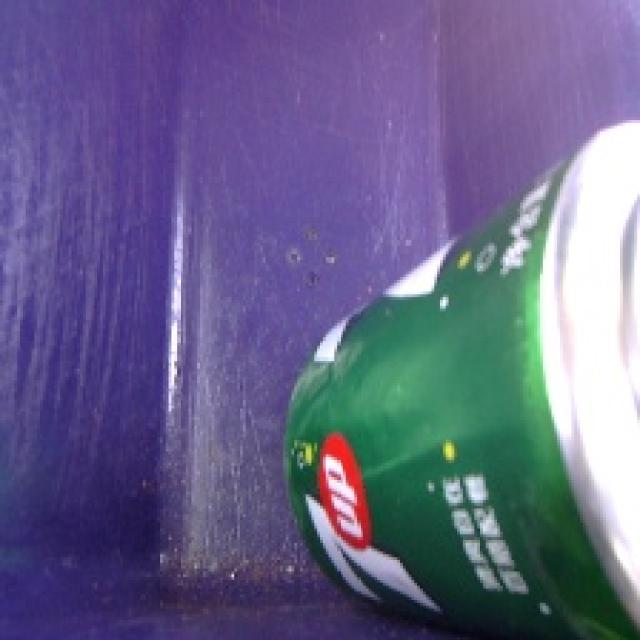metal: (266, 104, 640, 640)
